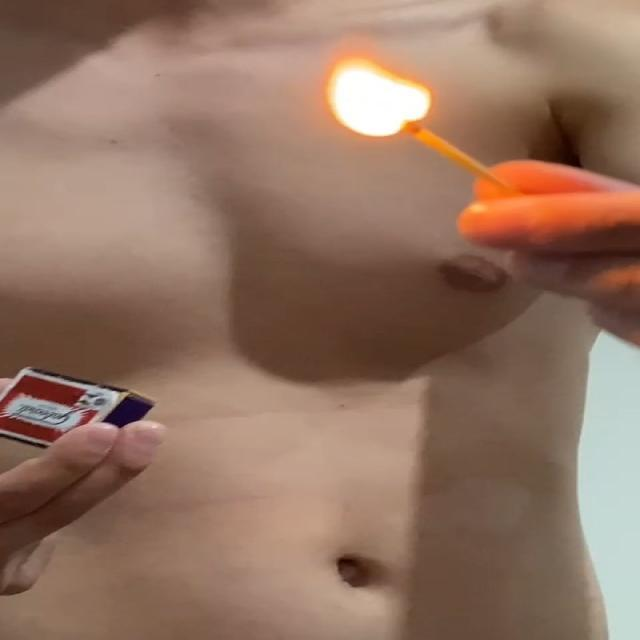fire: (314, 28, 440, 139)
